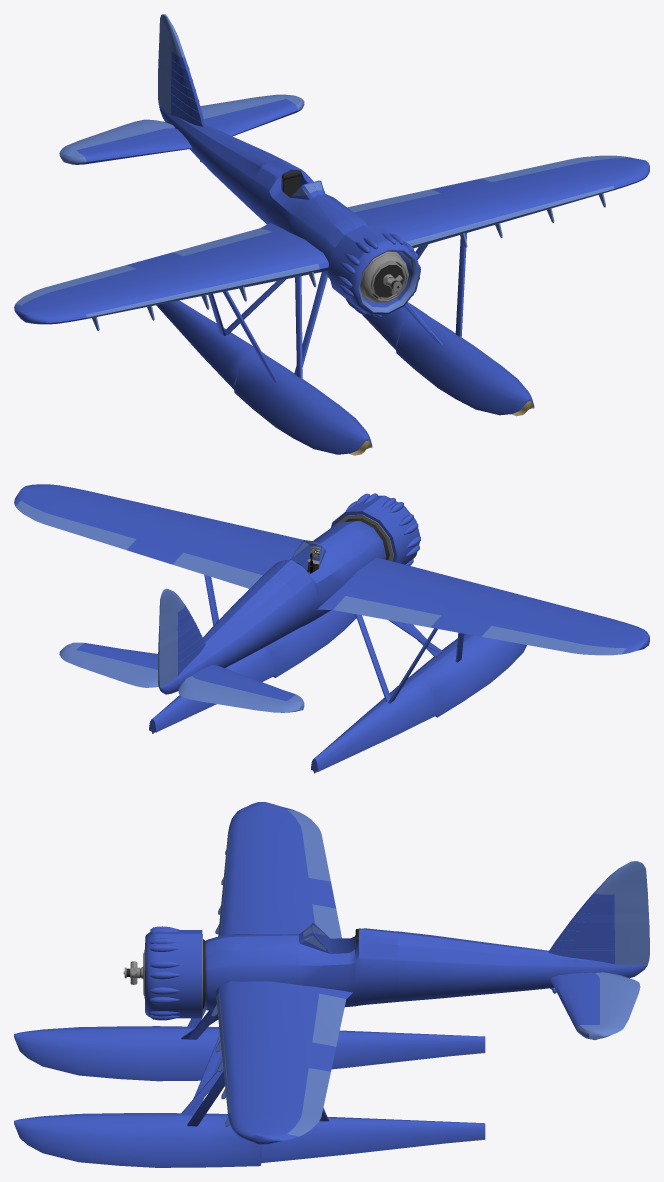
The model's file is float_plane.glb.
3 views of the same model, one above another, from view 1: azimuth 30°, elevation 25°; view 2: azimuth 150°, elevation 25°; view 3: azimuth 270°, elevation 25° (orthographic). The views are drawn at different scales.
Visible parts, largest first — view 1: Cube_13, Cube.003_8, Cylinder_3, Cube.001_4, Cylinder.001_6, Cube.004_9, Cube.002_5, Cylinder.003_7; view 2: Cube_13, Cube.003_8, Cylinder_3, Cube.001_4, Cube.002_5, Cylinder.001_6, Cube.004_9, Cylinder.003_7; view 3: Cube.003_8, Cube_13, Cylinder_3, Cube.002_5, Cube.001_4, Cylinder.001_6, Cube.004_9, Cylinder.003_7.
Part boxes in pixels (x1,y1,x2,y2): Cube_13: (14,155,649,324); Cube.003_8: (156,300,534,455); Cylinder_3: (159,106,368,278); Cube.001_4: (59,94,304,164); Cylinder.001_6: (327,225,420,314); Cube.004_9: (208,233,466,382); Cube.002_5: (158,14,205,126); Cylinder.003_7: (338,233,420,317); Cube_13: (14,484,649,655); Cube.003_8: (149,610,526,773); Cylinder_3: (159,521,386,694); Cube.001_4: (59,642,304,712); Cube.002_5: (158,588,205,687); Cylinder.001_6: (331,495,420,564); Cube.004_9: (204,575,463,703); Cylinder.003_7: (346,493,420,565); Cube.003_8: (14,1026,485,1167); Cube_13: (215,802,352,1144); Cylinder_3: (204,923,647,1010); Cube.002_5: (548,861,649,964); Cube.001_4: (550,972,640,1039); Cylinder.001_6: (143,930,205,1018); Cube.004_9: (181,1009,329,1126); Cylinder.003_7: (150,926,179,1020).
Bounding box in the file's own units: 3.26 × 1.17 × 2.61.
